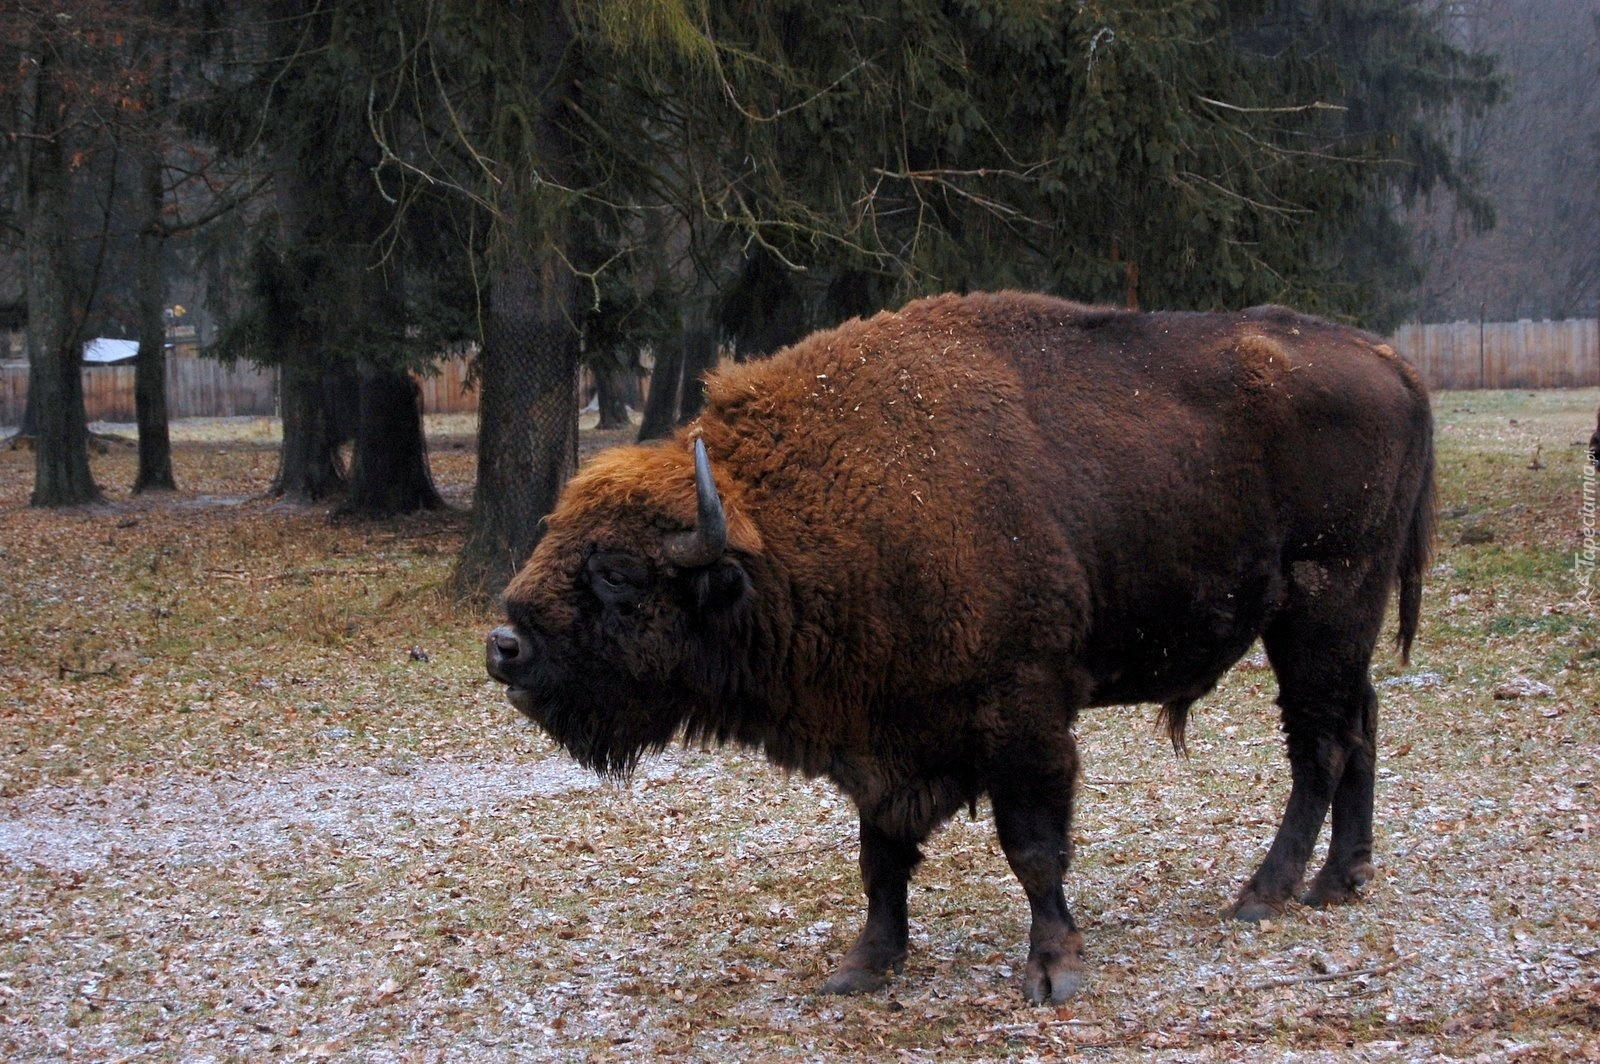zubr: (407, 184, 1488, 996)
